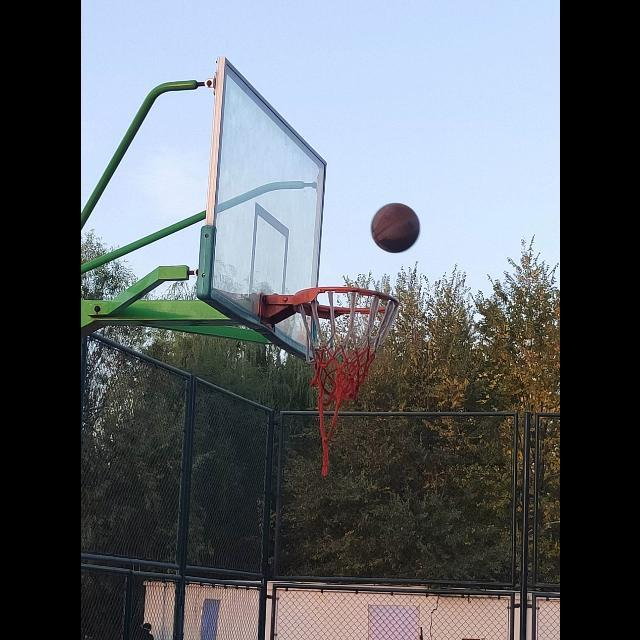basketball: (370, 203, 420, 253)
rim: (294, 286, 398, 398)
